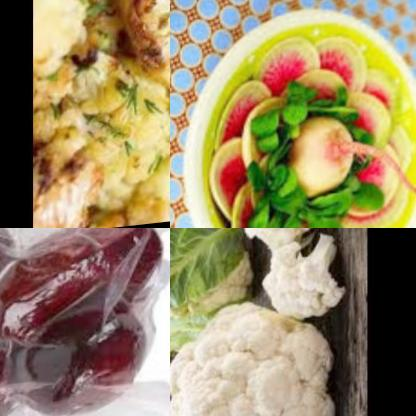beet: (0, 228, 161, 416)
cayliflower: (34, 0, 170, 228), (170, 295, 340, 416), (170, 228, 260, 355), (252, 233, 346, 331), (234, 228, 326, 262)
redka: (216, 20, 416, 228), (295, 115, 355, 205)
